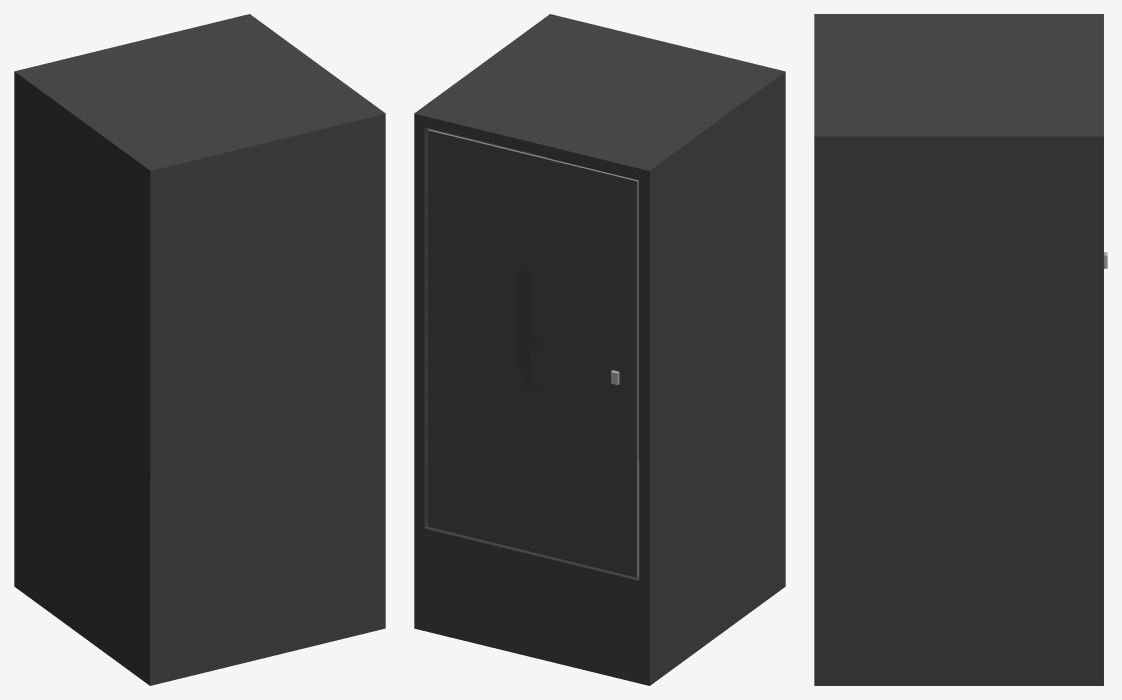
Rendered from schrankZu.obj.
3 views of the same model, side by side, from view 1: azimuth 30°, elevation 25°; view 2: azimuth 150°, elevation 25°; view 3: azimuth 270°, elevation 25° (orthographic). The views are drawn at different scales.
Parts seen in each view (by area): view 1: 300604_23_06_15_12_53_47_1_300604_23_06_15_12_53_47_1.002; view 2: 300604_23_06_15_12_53_47_1_300604_23_06_15_12_53_47_1.002; view 3: 300604_23_06_15_12_53_47_1_300604_23_06_15_12_53_47_1.002.
Boxes of the visible parts, <box> form: 300604_23_06_15_12_53_47_1_300604_23_06_15_12_53_47_1.002: <box>14,14,385,685</box>; 300604_23_06_15_12_53_47_1_300604_23_06_15_12_53_47_1.002: <box>414,14,785,685</box>; 300604_23_06_15_12_53_47_1_300604_23_06_15_12_53_47_1.002: <box>814,14,1107,685</box>.
Bounding box in the file's own units: 1.39 × 2.91 × 1.41.
1 material, 1 textured.
